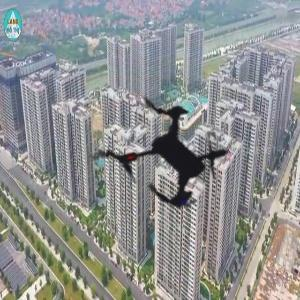drone: (56, 31, 298, 273)
